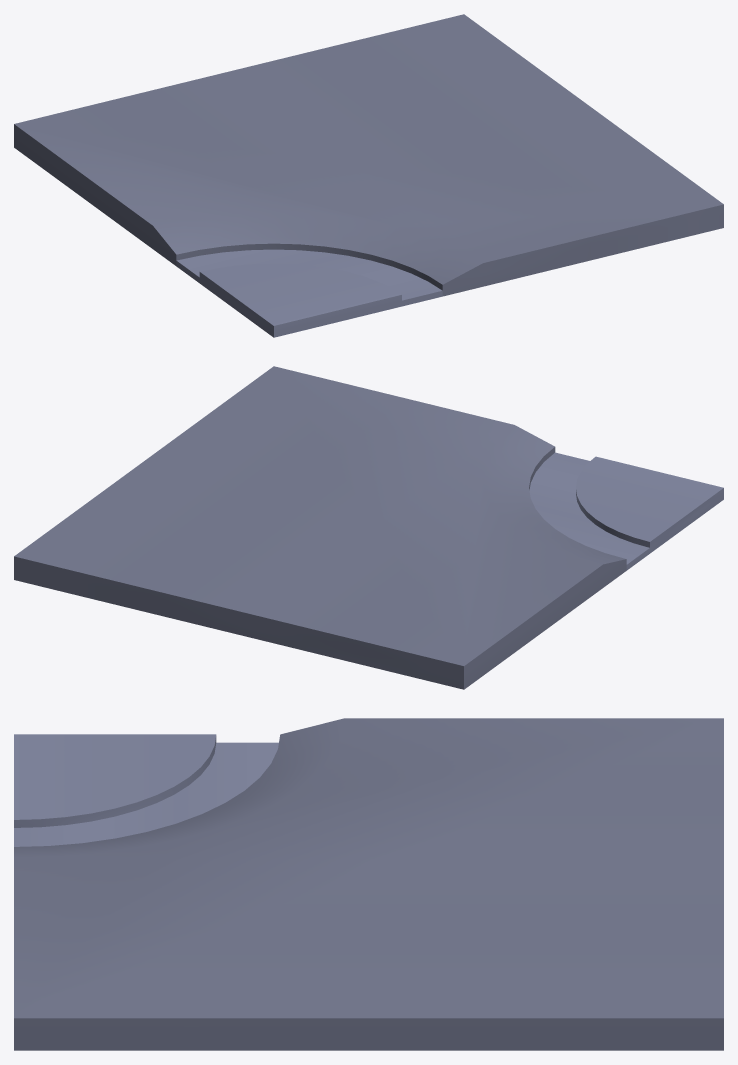
The model's file is roadCornerInner.fbx.
3 renders of one model, top to bottom at view 1: azimuth 30°, elevation 25°; view 2: azimuth 150°, elevation 25°; view 3: azimuth 270°, elevation 25°, orthographic. The views are drawn at different scales.
Parts seen in each view (by area): view 1: roadCornerInner; view 2: roadCornerInner; view 3: roadCornerInner.
Part boxes in pixels (bbox=[...]): roadCornerInner: bbox=[14, 14, 723, 337]; roadCornerInner: bbox=[14, 366, 723, 689]; roadCornerInner: bbox=[14, 718, 723, 1050].
Bounding box in the file's own units: 1 × 1 × 0.05.
